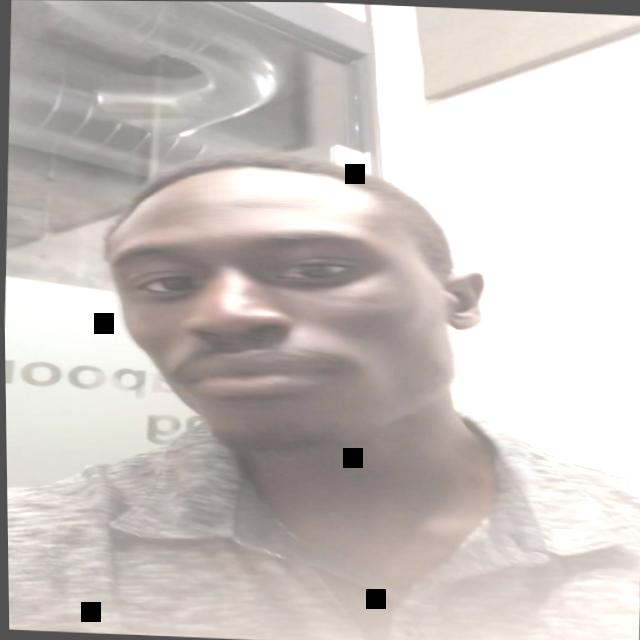NO-Mask: (102, 209, 475, 461)
